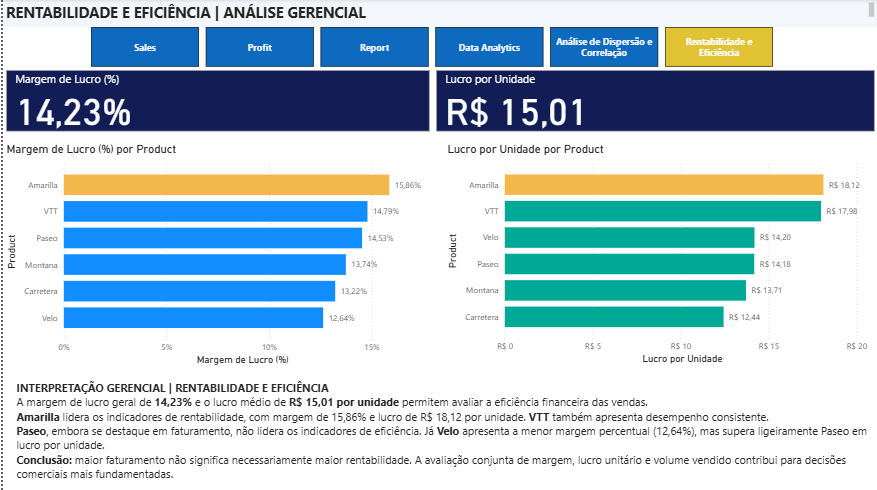

What the dashboard file says about the page in this screenshot:
{"tool":"powerbi","page":{"name":"Rentabilidade e Eficiência","canvas":[1280,720],"ordinal":5},"visuals":[{"type":"cardVisual","fields":{"Data":["financials.Margem de Lucro (%)"]},"box":[0,99.5,629.3,99.5],"z":0},{"type":"cardVisual","fields":{"Data":["financials.Lucro por Unidade"]},"box":[629.3,99.5,651.2,99.5],"z":1000},{"type":"clusteredBarChart","fields":{"Category":["financials.Product"],"Y":["financials.Margem de Lucro (%)"]},"box":[0,209.3,629.3,330.7],"z":2000},{"type":"clusteredBarChart","fields":{"Category":["financials.Product"],"Y":["financials.Lucro por Unidade"]},"box":[645.4,209.3,629.3,329.3],"z":3000},{"type":"textbox","box":[14.6,553.2,1260,162.4],"z":4000},{"type":"textbox","box":[0,0,1280.5,41],"z":5000},{"type":"pageNavigator","box":[128.8,41,999.5,58.5],"z":6000}]}

Visuals, with their boxes in screenshot pixels (x1, y1, x2, y2), scaled from the page's 1280x720 canvas onto the 877x490 screenshot:
cardVisual - financials.Margem de Lucro (%): region(0, 68, 431, 135)
cardVisual - financials.Lucro por Unidade: region(431, 68, 876, 135)
clusteredBarChart - financials.Product x financials.Margem de Lucro (%): region(0, 142, 431, 368)
clusteredBarChart - financials.Product x financials.Lucro por Unidade: region(442, 142, 873, 367)
textbox: region(10, 376, 873, 487)
textbox: region(0, 0, 876, 28)
pageNavigator: region(88, 28, 773, 68)
